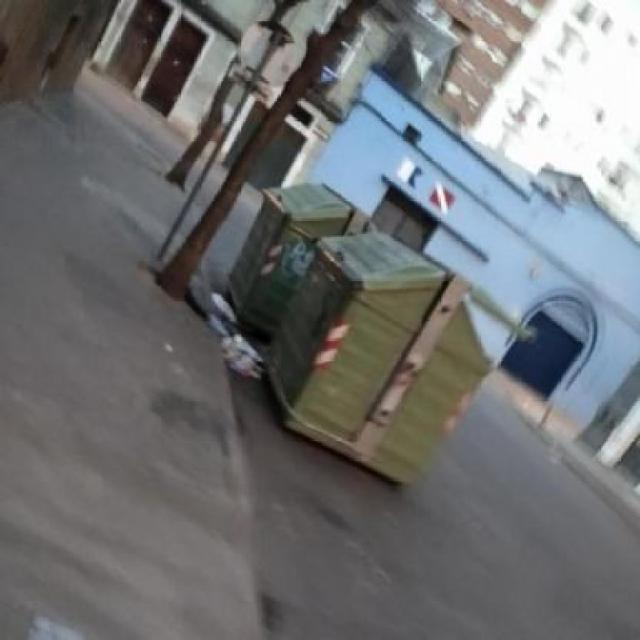garbage: (192, 276, 266, 400)
